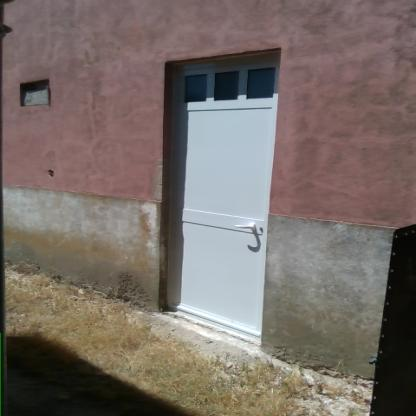closed: (149, 44, 282, 353)
